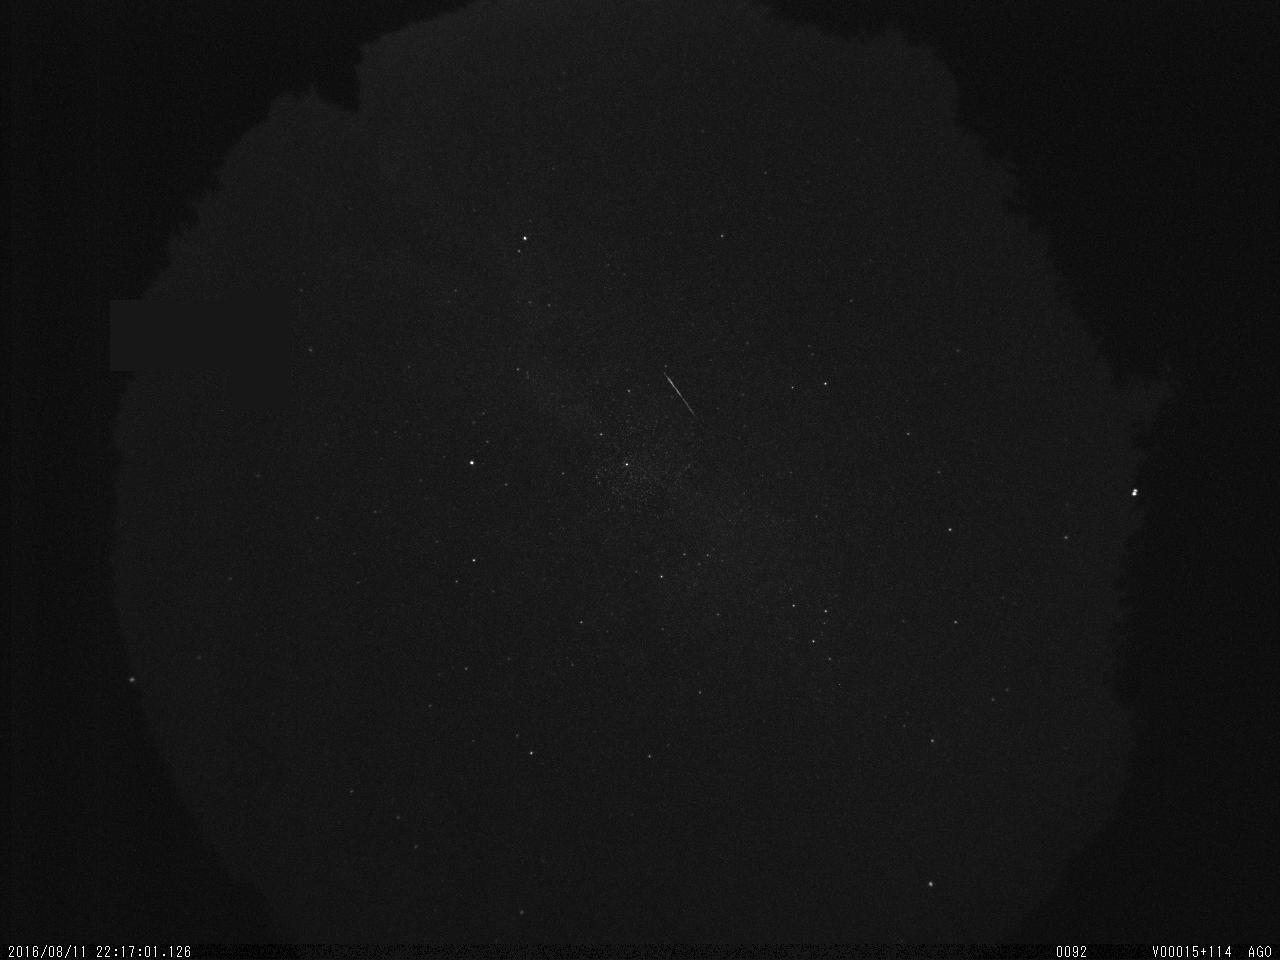meteor: (650, 353, 710, 436)
